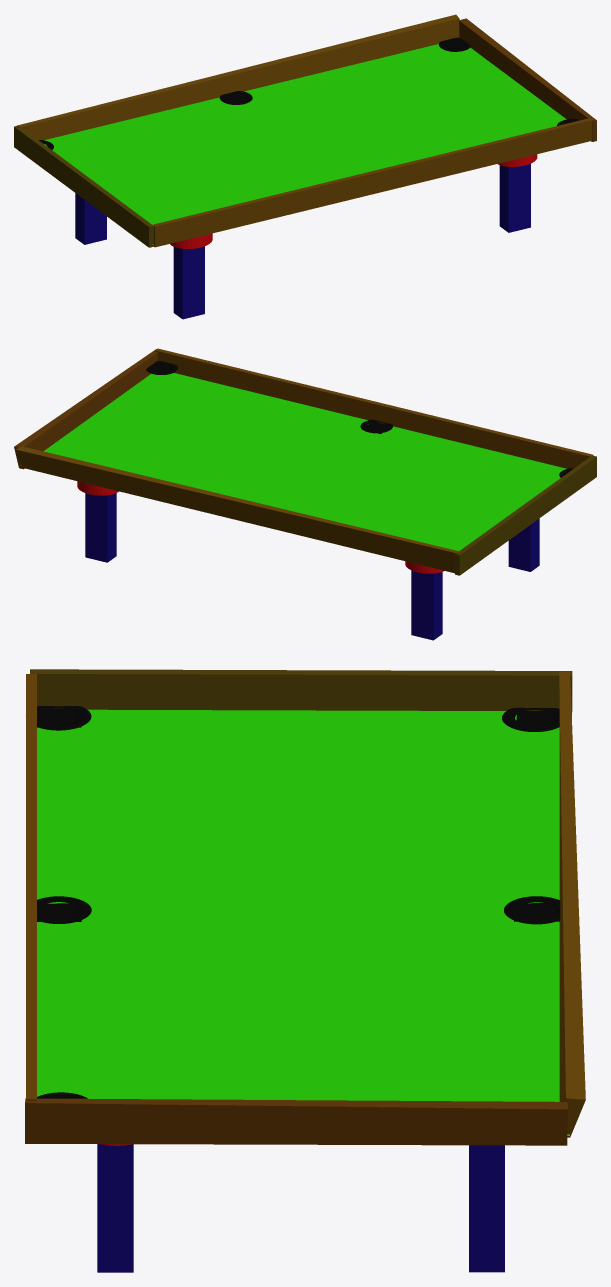
Rendered from biliard2.0.fbx.
The picture shows the model from 3 angles, top to bottom: view 1: azimuth 30°, elevation 25°; view 2: azimuth 150°, elevation 25°; view 3: azimuth 270°, elevation 25°; orthographic projection. The views are drawn at different scales.
Visible parts, largest first — view 1: Plane, Cube.001, Cube.002, Cube.003, Cube.004, Cube.007, Cube, Cube.006; view 2: Plane, Cube.002, Cube.001, Cube.003, Cube.004, Cube.005, Cube.006, Cube.007; view 3: Plane, Cube.004, Cube.003, Cube.002, Cube, Cube.001, Cube.005, Torus.006, Torus.005, Torus.003.
Boxes of the visible parts, x1,y1,x2,y2 form: Plane: [44, 44, 566, 244]; Cube.001: [152, 117, 594, 247]; Cube.002: [17, 14, 459, 140]; Cube.003: [14, 126, 153, 247]; Cube.004: [459, 18, 596, 141]; Cube.007: [173, 246, 204, 319]; Cube: [499, 163, 530, 232]; Cube.006: [75, 193, 106, 244]; Plane: [21, 373, 566, 550]; Cube.002: [15, 446, 460, 573]; Cube.001: [155, 348, 593, 468]; Cube.003: [455, 455, 596, 575]; Cube.004: [14, 349, 157, 469]; Cube.005: [85, 493, 116, 562]; Cube.006: [411, 570, 442, 640]; Cube.007: [508, 518, 539, 571]; Plane: [37, 709, 569, 1135]; Cube.004: [25, 1098, 567, 1145]; Cube.003: [30, 669, 572, 715]; Cube.002: [559, 671, 585, 1137]; Cube: [97, 1144, 133, 1272]; Cube.001: [26, 674, 36, 1101]; Cube.005: [469, 1145, 504, 1272]; Torus.006: [504, 896, 560, 924]; Torus.005: [37, 896, 91, 923]; Torus.003: [502, 707, 559, 731].
Size of the model in its own units: 205 by 48.81 by 111.
